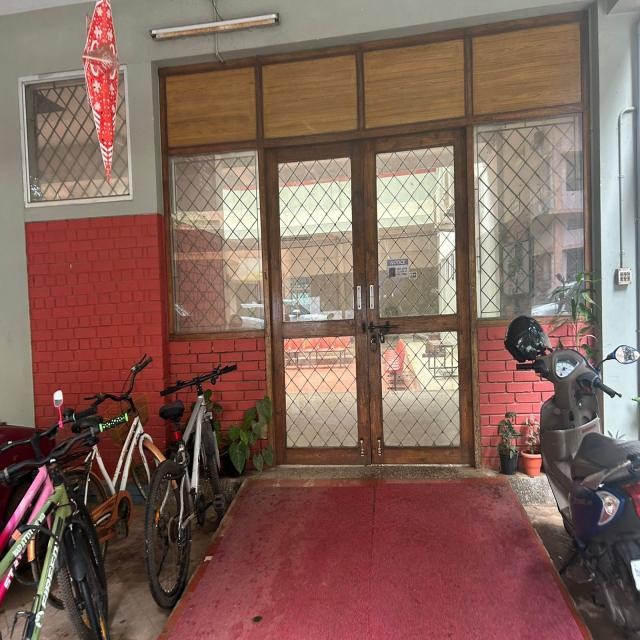Door ahead at: (262, 150, 470, 460)
bicycle ahead at: (144, 362, 240, 598)
motorcycle ahead at: (503, 310, 640, 613)
